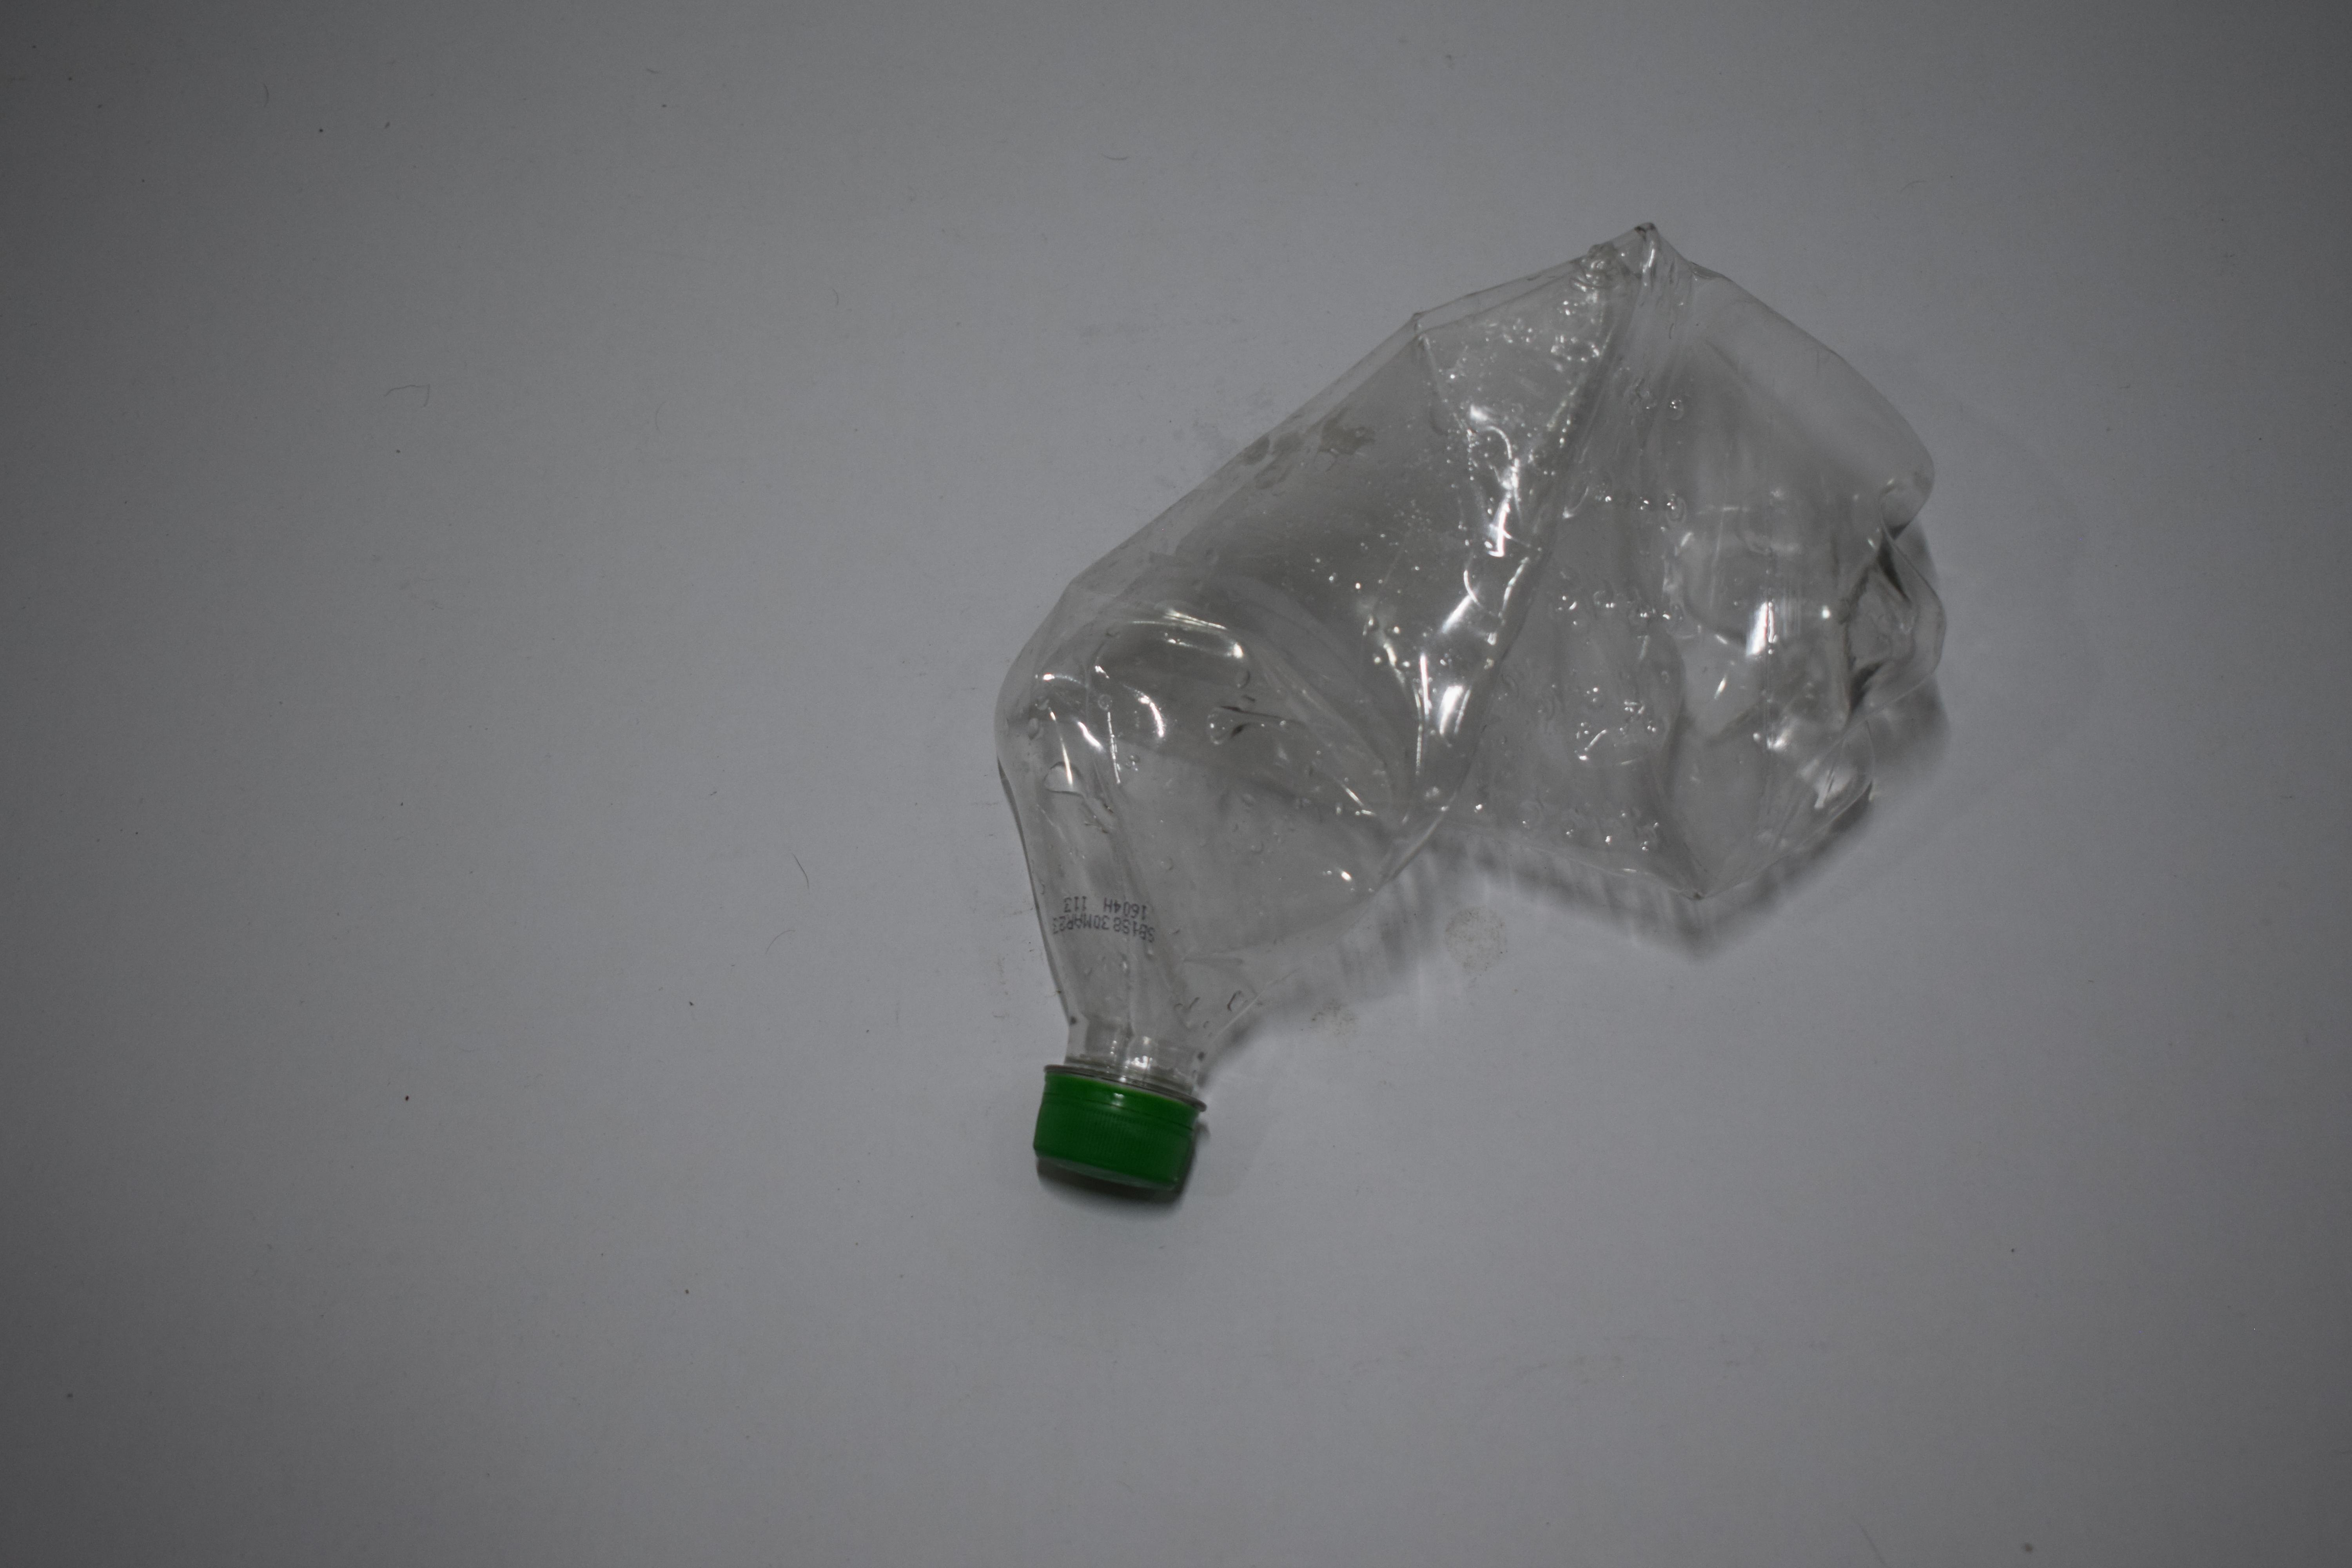bottle: (973, 130, 1944, 1136)
